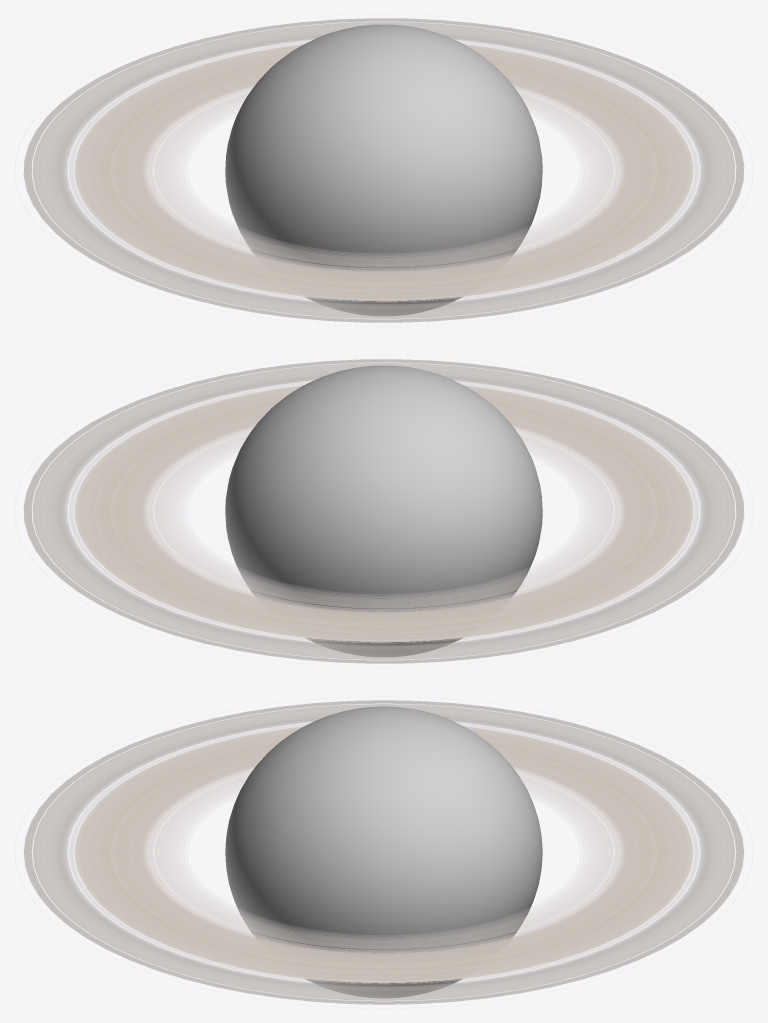
File: Saturn.gltf
3 views of the same model, one above another, from view 1: azimuth 30°, elevation 25°; view 2: azimuth 150°, elevation 25°; view 3: azimuth 270°, elevation 25° (orthographic).
Parts seen in each view (by area): view 1: RingsTop, Saturn.001; view 2: RingsTop, Saturn.001; view 3: RingsTop, Saturn.001.
Part boxes in pixels (box(x1,y1,x2,y2)): RingsTop: box(23, 18, 744, 322); Saturn.001: box(225, 24, 542, 315); RingsTop: box(23, 359, 744, 663); Saturn.001: box(225, 365, 542, 656); RingsTop: box(23, 700, 744, 1004); Saturn.001: box(225, 706, 542, 998).
Size of the model in its own units: 2331 by 902 by 2331.
